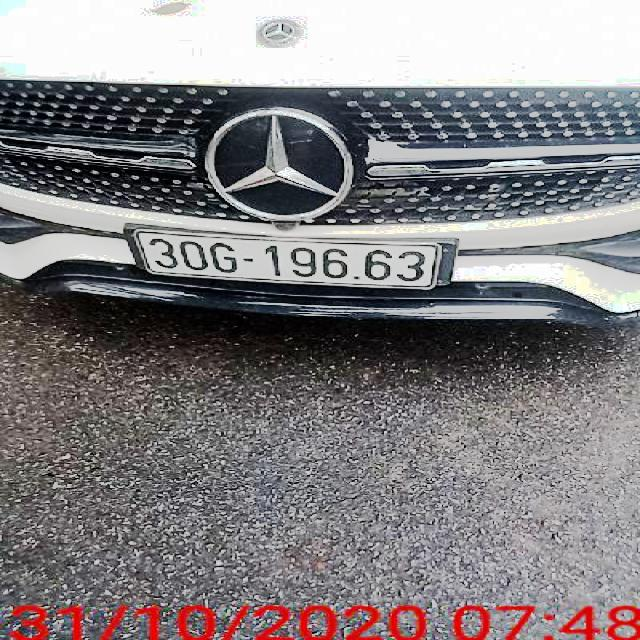license_plate: (130, 230, 445, 290)
